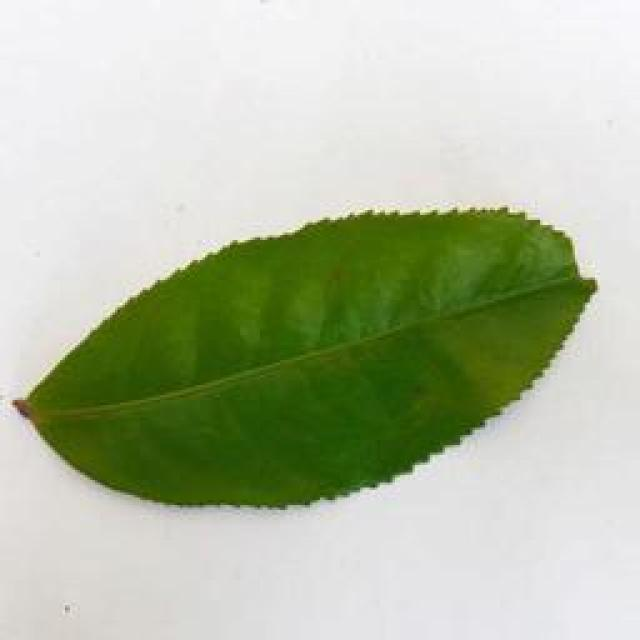Healthy: (8, 193, 611, 518)
